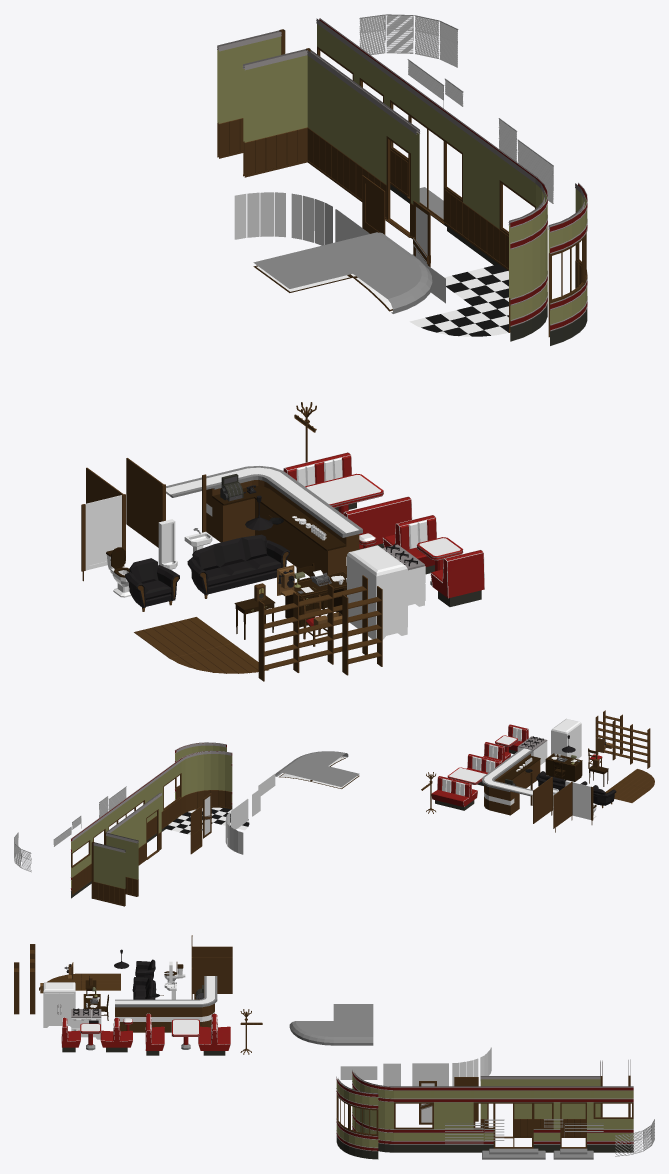
File: modular_diner.fbx
3 renders of one model, top to bottom at view 1: azimuth 30°, elevation 25°; view 2: azimuth 150°, elevation 25°; view 3: azimuth 270°, elevation 25°, orthographic. The views are drawn at different scales.
Parts seen in each view (by area): view 1: Wall_Inside_Corner, Wall_Outside_Entrance, Wall_Outside_Corner, Bar_Corner, Wall_Outside_Straight, Wall_Outside_Corner_Windows, Sofa_Long, Glass_Corner, Wall_Inside_Straight_End, Toilet_Walls, Fridge, Shelf_Big (+27 smaller); view 2: Wall_Outside_Corner, Wall_Inside_Straight_End, Toilet_Walls, Bar_Corner, Wall_Inside_Corner, Seats_Double_Big, Shelf_Big, Wall_Outside_Straight_Window_Small, Fridge, Wall_Outside_Straight_Window, Wall_Outside_Straight, Bar_Straight_Big (+24 smaller); view 3: Wall_Outside_Entrance, Wall_Outside_Straight, Wall_Outside_Straight_Window_Small, Wall_Outside_Corner_Windows, Wall_Outside_Back_Door, Wall_Outside_Corner, Wall_Outside_Straight_Window, Toilet_Walls, Wall_Inside_Corner, Fridge, Wall_Inside_Straight, Bar_Straight_Big (+22 smaller).
Part boxes in pixels (x1,y1,x2,y2): Wall_Inside_Corner: [242, 48, 346, 188]; Wall_Outside_Entrance: [389, 71, 465, 243]; Wall_Outside_Corner: [508, 178, 547, 341]; Bar_Corner: [206, 466, 307, 542]; Wall_Outside_Straight: [462, 125, 501, 265]; Wall_Outside_Corner_Windows: [548, 182, 587, 345]; Sofa_Long: [187, 534, 289, 598]; Glass_Corner: [234, 192, 332, 245]; Wall_Inside_Straight_End: [217, 29, 285, 158]; Toilet_Walls: [81, 458, 206, 581]; Fridge: [347, 545, 407, 639]; Shelf_Big: [258, 575, 367, 681]; Wall_Outside_Corner: [180, 750, 232, 814]; Wall_Inside_Straight_End: [91, 842, 125, 906]; Toilet_Walls: [530, 772, 593, 832]; Bar_Corner: [482, 768, 519, 815]; Wall_Inside_Corner: [104, 819, 138, 896]; Seats_Double_Big: [431, 776, 477, 810]; Shelf_Big: [595, 716, 650, 768]; Wall_Outside_Straight_Window_Small: [70, 826, 90, 898]; Fridge: [551, 718, 581, 758]; Wall_Outside_Straight_Window: [162, 759, 181, 831]; Wall_Outside_Straight: [143, 772, 163, 842]; Bar_Straight_Big: [505, 748, 540, 788]; Wall_Outside_Entrance: [473, 1086, 553, 1159]; Wall_Outside_Straight: [434, 1086, 473, 1152]; Wall_Outside_Straight_Window_Small: [593, 1086, 633, 1152]; Wall_Outside_Corner_Windows: [336, 1076, 378, 1159]; Wall_Outside_Back_Door: [553, 1086, 593, 1159]; Wall_Outside_Corner: [352, 1070, 393, 1152]; Wall_Outside_Straight_Window: [394, 1086, 433, 1152]; Toilet_Walls: [191, 935, 232, 999]; Wall_Inside_Corner: [560, 1060, 602, 1137]; Fridge: [43, 982, 75, 1027]; Wall_Inside_Straight: [520, 1076, 560, 1137]; Bar_Straight_Big: [115, 999, 154, 1032].
Bounding box in the file's own units: 210 × 31.86 × 274.
